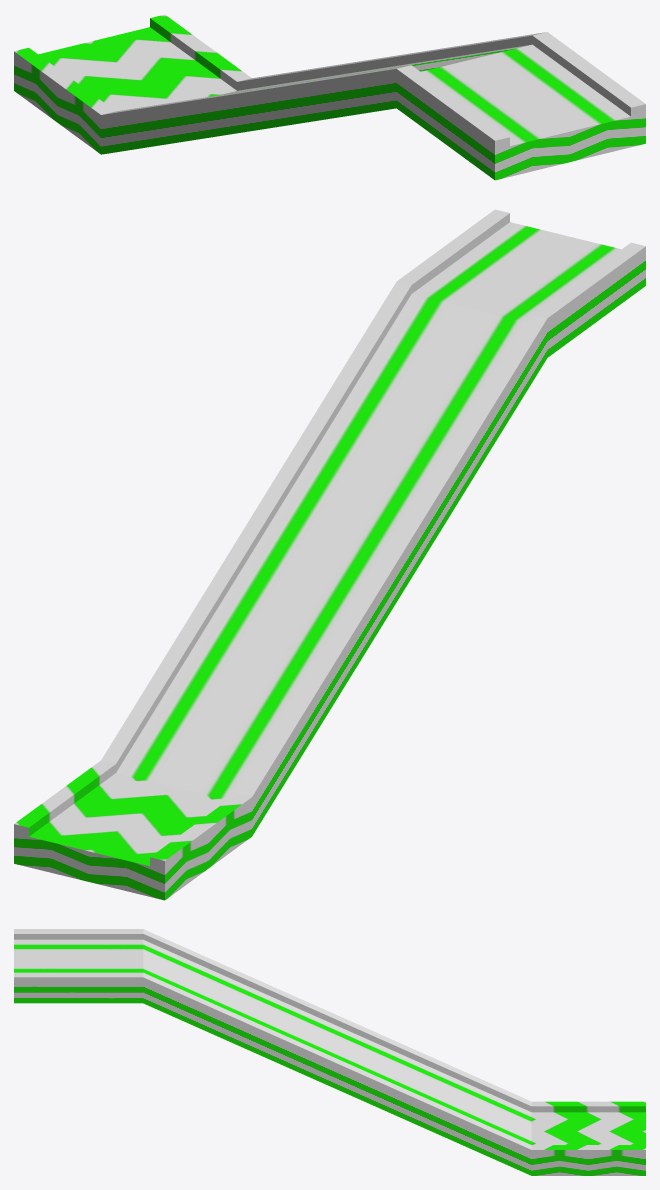
Rendered from kishan3 ramp.glb.
The picture shows the model from 3 angles, top to bottom: view 1: azimuth 30°, elevation 25°; view 2: azimuth 150°, elevation 25°; view 3: azimuth 270°, elevation 25°; orthographic projection. The views are drawn at different scales.
Visible parts, largest first — view 1: Cube.120_0; view 2: Cube.120_0; view 3: Cube.120_0.
Part boxes in pixels (left/top/right/bottom): Cube.120_0: left=14, top=14, right=645, bottom=180; Cube.120_0: left=14, top=209, right=645, bottom=900; Cube.120_0: left=14, top=929, right=645, bottom=1175.
Bounding box in the file's own units: 1.02 × 1.95 × 5.64.
Materials: 1 (1 with a texture image).
